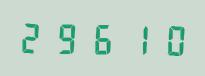nine: (51, 19, 83, 55)
one: (117, 20, 149, 56)
six: (84, 19, 116, 56)
two: (18, 18, 50, 55)
zero: (150, 20, 182, 57)
